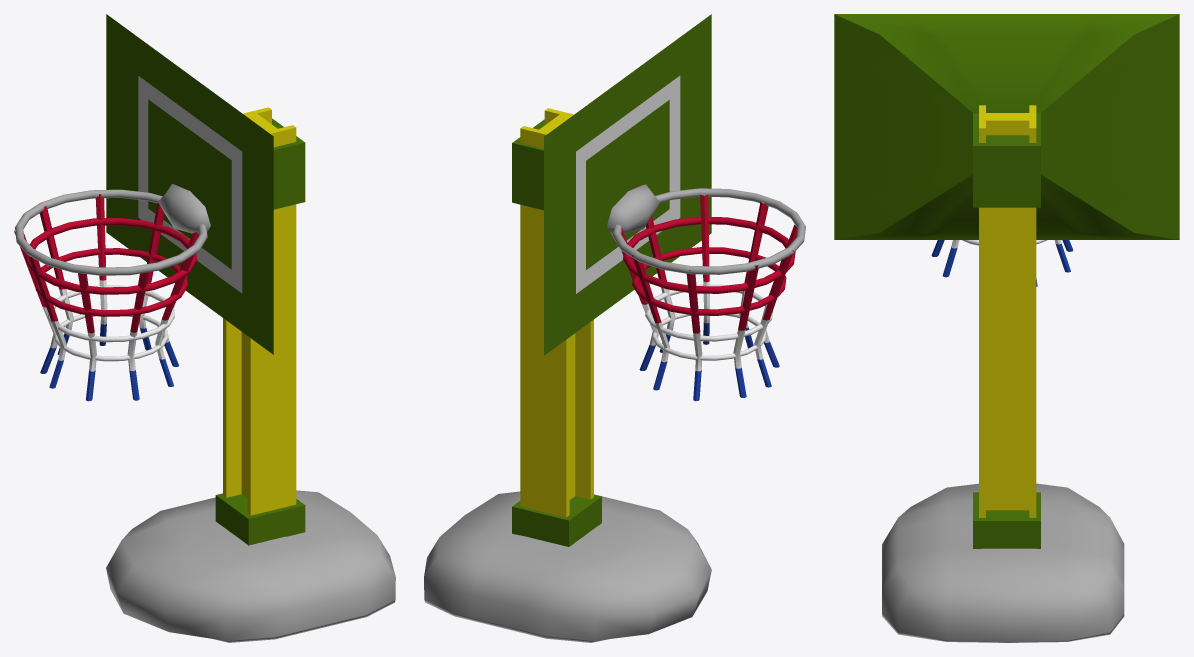
Rendered from Basket.fbx.
The picture shows the model from 3 angles, left to right: view 1: azimuth 30°, elevation 25°; view 2: azimuth 150°, elevation 25°; view 3: azimuth 270°, elevation 25°; orthographic projection. The views are drawn at different scales.
Parts seen in each view (by area): view 1: pTorus24; view 2: pTorus24; view 3: pTorus24.
Part boxes in pixels (left/top/right/bottom): pTorus24: left=14, top=14, right=395, bottom=642; pTorus24: left=424, top=14, right=805, bottom=642; pTorus24: left=834, top=14, right=1179, bottom=642.
Size of the model in its own units: 9.02 by 13.38 by 7.71.
